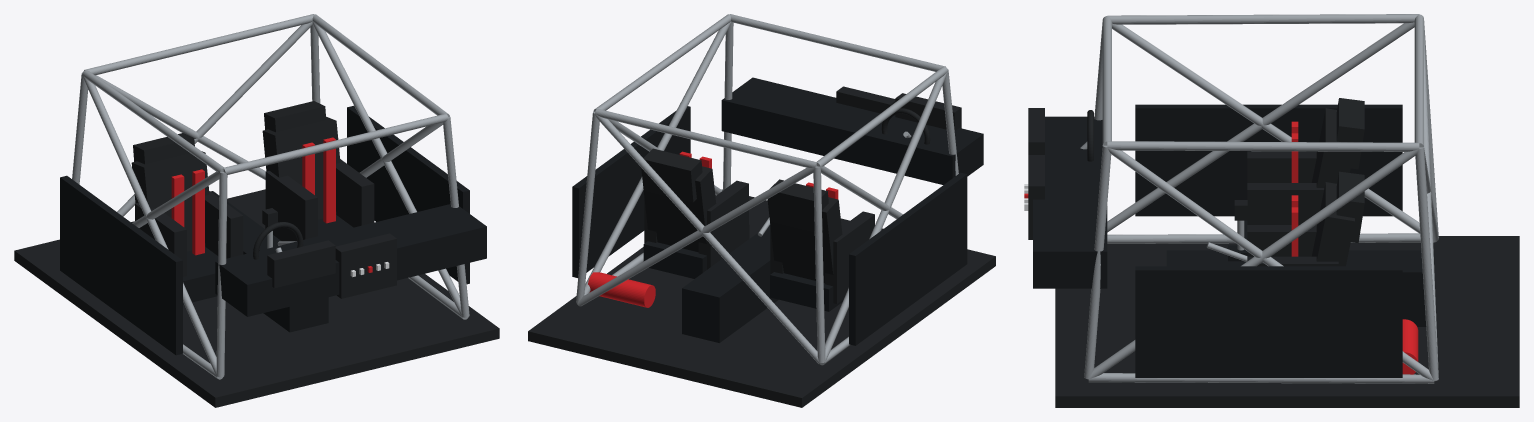
File: keleb-interior.glb
3 views of the same model, side by side, from view 1: azimuth 30°, elevation 25°; view 2: azimuth 150°, elevation 25°; view 3: azimuth 270°, elevation 25° (orthographic). The views are drawn at different scales.
Parts seen in each view (by area): view 1: Keleb_Floor, Keleb_DoorCard_L, Keleb_Dashboard, Keleb_DoorCard_R, Keleb_CenterPanel, Keleb_CodriverSeat_Back, Keleb_DriverSeat_Back, Keleb_CodriverSeat_Bolster, Keleb_Cluster, Keleb_Cage_DoorX1L, Keleb_CenterTunnel, Keleb_CodriverSeat_Bolster.001 (+24 smaller); view 2: Keleb_Floor, Keleb_Dashboard, Keleb_DoorCard_L, Keleb_DoorCard_R, Keleb_CenterTunnel, Keleb_DriverSeat_Back, Keleb_CodriverSeat_Back, Keleb_Cage_RearX2, Keleb_CodriverSeat_Bolster, Keleb_Cage_RearX1, Keleb_CodriverSeat_Head, Keleb_Cage_DoorX2R (+18 smaller); view 3: Keleb_Floor, Keleb_DoorCard_R, Keleb_DoorCard_L, Keleb_Dashboard, Keleb_CenterTunnel, Keleb_Cage_DoorX1L, Keleb_Cage_RoofR, Keleb_Cage_RoofL, Keleb_DriverSeat_Bolster.001, Keleb_Cage_DoorX2L, Keleb_Cage_DoorX1R, Keleb_Cage_B_R (+19 smaller).
Part boxes in pixels (box(x1,y1,x2,y2)): Keleb_Floor: box(14, 189, 499, 407); Keleb_DoorCard_L: box(60, 175, 182, 355); Keleb_Dashboard: box(215, 204, 486, 316); Keleb_DoorCard_R: box(347, 105, 469, 284); Keleb_CenterPanel: box(335, 233, 396, 298); Keleb_CodriverSeat_Back: box(262, 116, 340, 219); Keleb_DriverSeat_Back: box(131, 151, 209, 251); Keleb_CodriverSeat_Bolster: box(265, 171, 317, 241); Keleb_Cluster: box(267, 240, 335, 288); Keleb_Cage_DoorX1L: box(82, 75, 216, 375); Keleb_CenterTunnel: box(210, 191, 328, 332); Keleb_CodriverSeat_Bolster.001: box(336, 159, 374, 227); Keleb_Floor: box(528, 189, 995, 407); Keleb_Dashboard: box(721, 77, 983, 184); Keleb_DoorCard_L: box(849, 172, 967, 345); Keleb_DoorCard_R: box(572, 106, 690, 277); Keleb_CenterTunnel: box(682, 225, 778, 342); Keleb_DriverSeat_Back: box(767, 197, 842, 282); Keleb_CodriverSeat_Back: box(641, 166, 716, 252); Keleb_Cage_RearX2: box(595, 114, 819, 363); Keleb_CodriverSeat_Bolster: box(698, 180, 748, 269); Keleb_Cage_RearX1: box(578, 167, 814, 306); Keleb_CodriverSeat_Head: box(643, 148, 702, 202); Keleb_Cage_DoorX2R: box(584, 21, 731, 295); Keleb_Floor: box(1055, 236, 1519, 407); Keleb_DoorCard_R: box(1135, 266, 1402, 377); Keleb_DoorCard_L: box(1135, 104, 1402, 216); Keleb_Dashboard: box(1033, 116, 1107, 288); Keleb_CenterTunnel: box(1166, 250, 1434, 326); Keleb_Cage_DoorX1L: box(1107, 22, 1414, 232); Keleb_Cage_RoofR: box(1107, 141, 1419, 151); Keleb_Cage_RoofL: box(1107, 14, 1419, 24); Keleb_DriverSeat_Bolster.001: box(1247, 183, 1324, 224); Keleb_Cage_DoorX2L: box(1112, 23, 1420, 233); Keleb_Cage_DoorX1R: box(1089, 149, 1418, 379); Keleb_Cage_B_R: box(1415, 147, 1438, 380).
Bounding box in the file's own units: 2.11 × 1.48 × 2.67.
